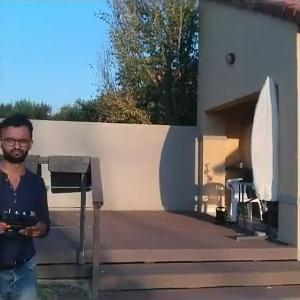follow: (0, 109, 53, 298)
